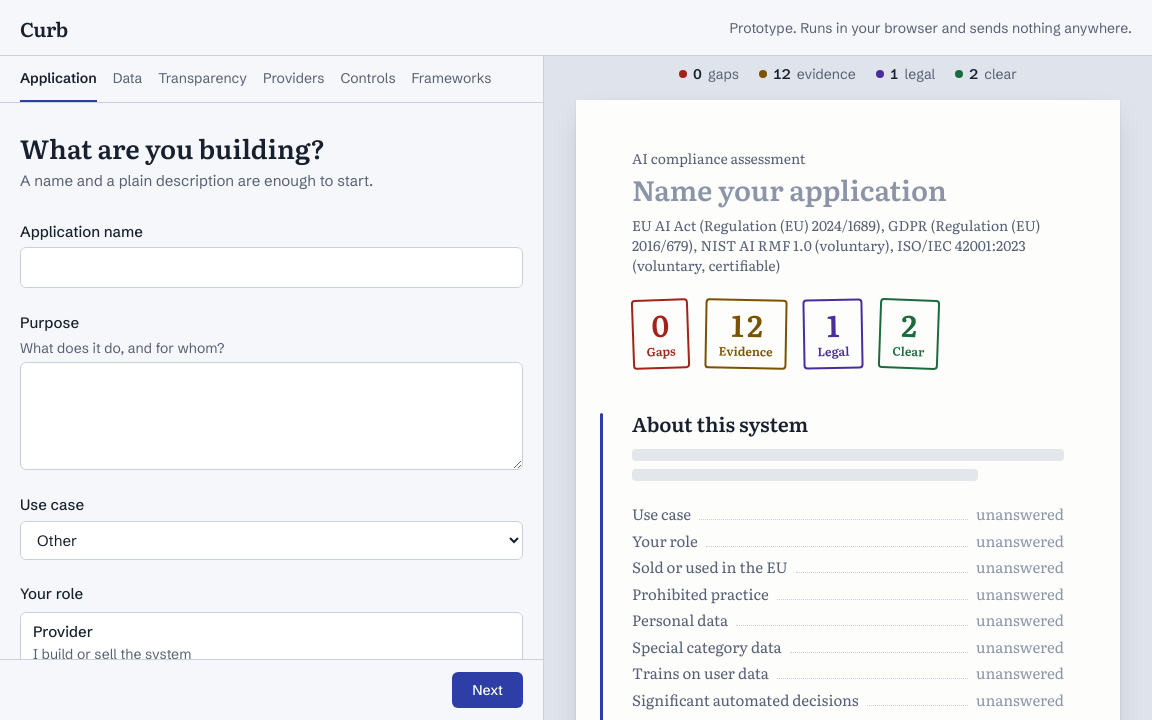
Test: Workspace › writes the application name, purpose and facts into the document as you type
Type "Hiring Screener" into the field labelled "Application name" at (272, 267), box [20,247,523,288]
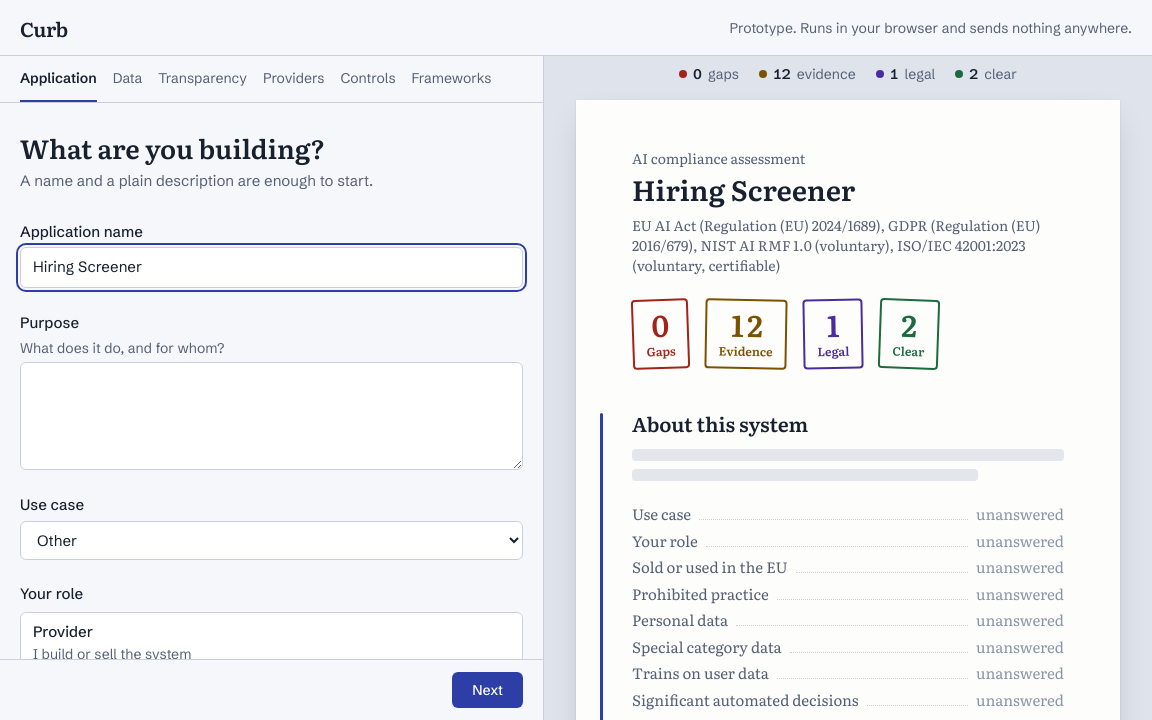
Type "Ranks CVs for recruiters" into the text box labelled "Purpose What does it do, and for whom?" at (272, 416), box [20,362,523,470]
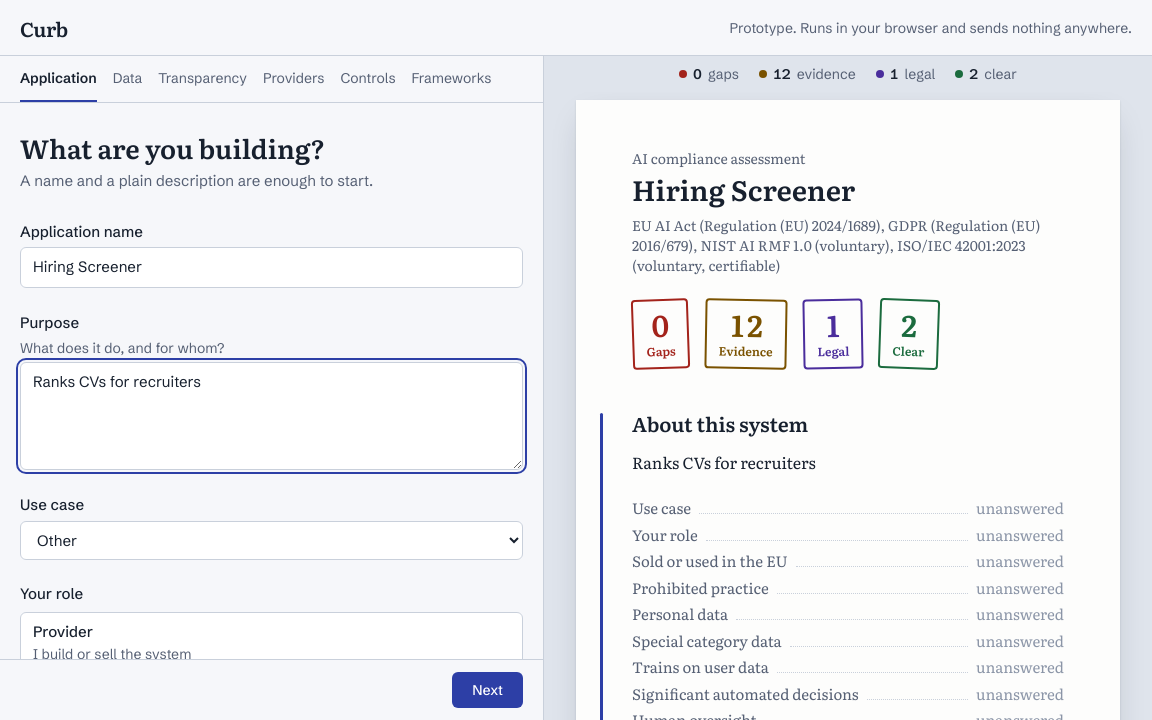
Select "Hiring, worker management or promotion" in the dropdown labelled "Use case" at (272, 540), box [20,520,523,560]
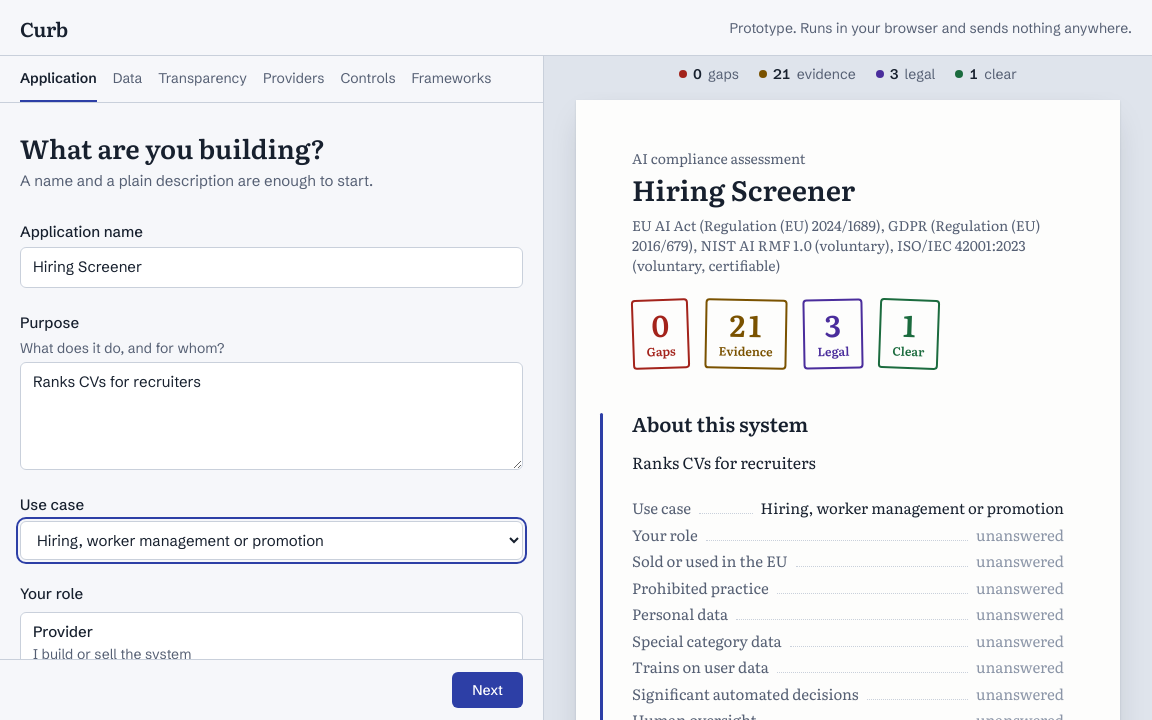
Expected: the heading "Hiring Screener" is shown, [632,168,855,210]
Expected: the text "Ranks CVs for recruiters" is shown, [632,450,816,474]
Expected: the text "Hiring, worker management or promotion" is shown, [760,497,1064,520]
